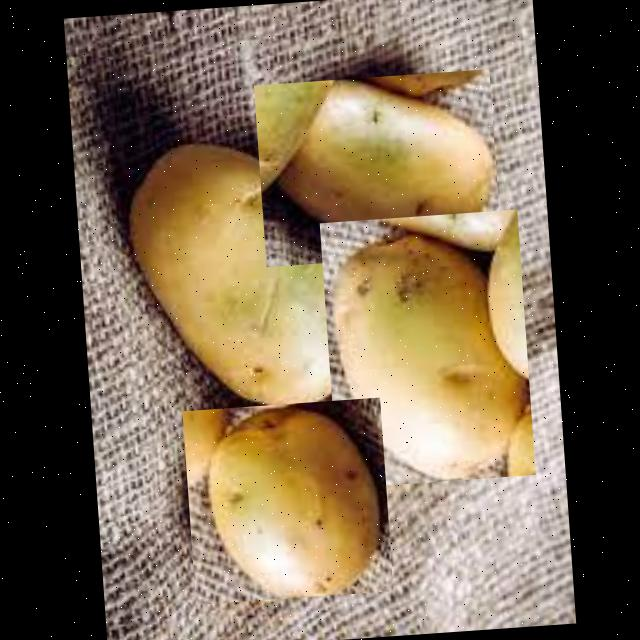Defected potato: (120, 127, 370, 415), (319, 208, 535, 487), (254, 67, 502, 266), (182, 396, 393, 603)
